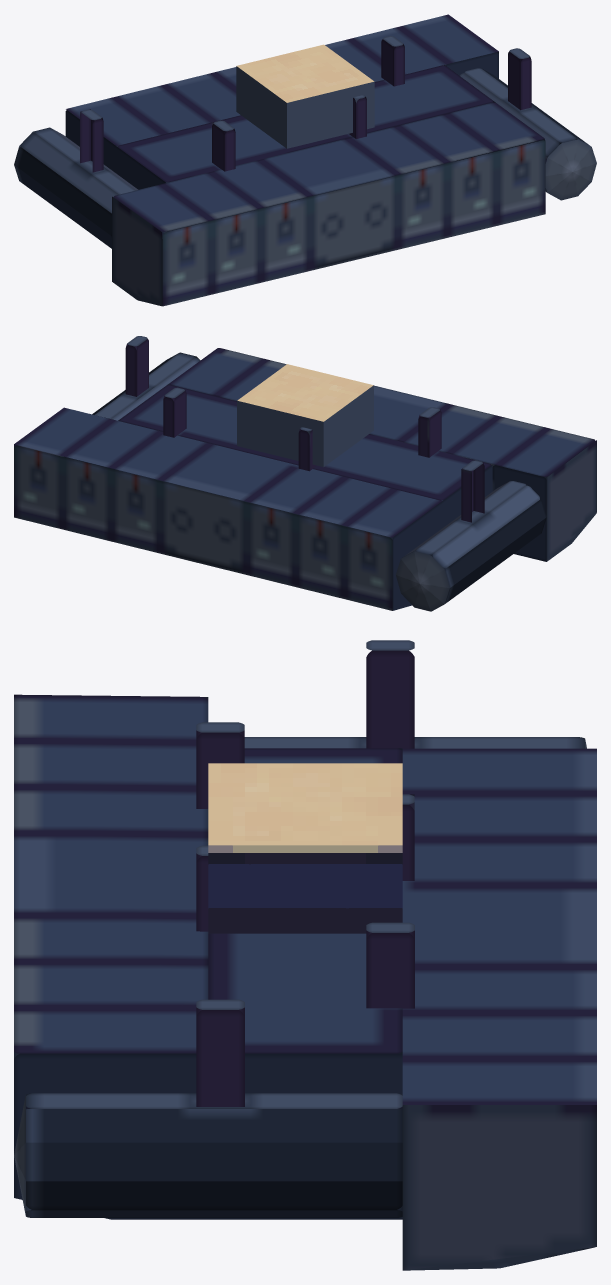
File: df11_reservoir_tank.obj
3 views of the same model, one above another, from view 1: azimuth 30°, elevation 25°; view 2: azimuth 150°, elevation 25°; view 3: azimuth 270°, elevation 25° (orthographic). The views are drawn at different scales.
Parts seen in each view (by area): view 1: cube_selection_selection_selection_selection; view 2: cube_selection_selection_selection_selection; view 3: cube_selection_selection_selection_selection.
Boxes of the visible parts, left/top/right/bottom form: cube_selection_selection_selection_selection: left=14, top=14, right=596, bottom=306; cube_selection_selection_selection_selection: left=14, top=336, right=596, bottom=611; cube_selection_selection_selection_selection: left=14, top=640, right=596, bottom=1270.
Size of the model in its own units: 4.99 by 1.48 by 3.
